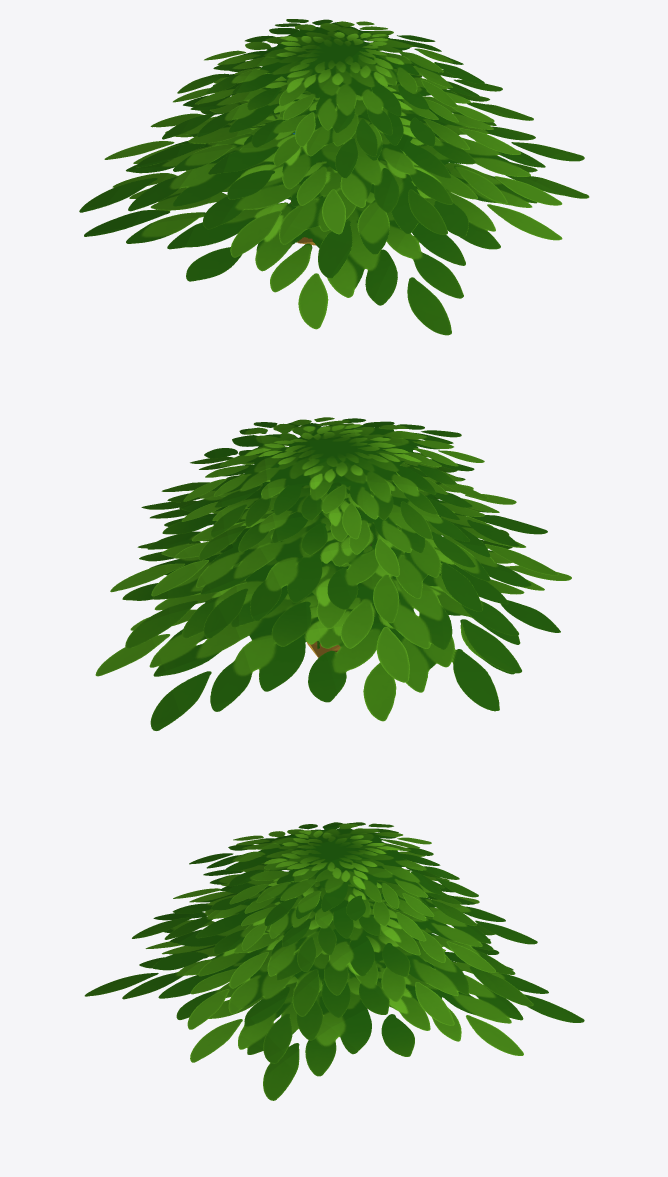
File: prototypes.glb
3 views of the same model, one above another, from view 1: azimuth 30°, elevation 25°; view 2: azimuth 150°, elevation 25°; view 3: azimuth 270°, elevation 25° (orthographic). The views are drawn at different scales.
Visible parts, largest first — view 1: __p_bush_1; view 2: __p_bush_1; view 3: __p_bush_1.
Part boxes in pixels (x1,y1,x2,y2): __p_bush_1: (79, 19, 589, 335); __p_bush_1: (95, 417, 571, 730); __p_bush_1: (84, 822, 584, 1100).
Bounding box in the file's own units: 1.87 × 0.568 × 1.86.
Materials: 7 (6 with a texture image).
